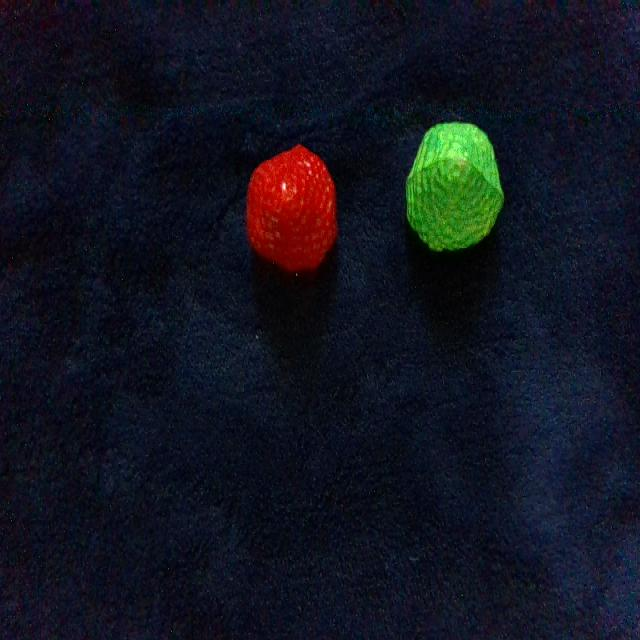chica_roja: (247, 145, 335, 269)
verde: (407, 123, 503, 249)
